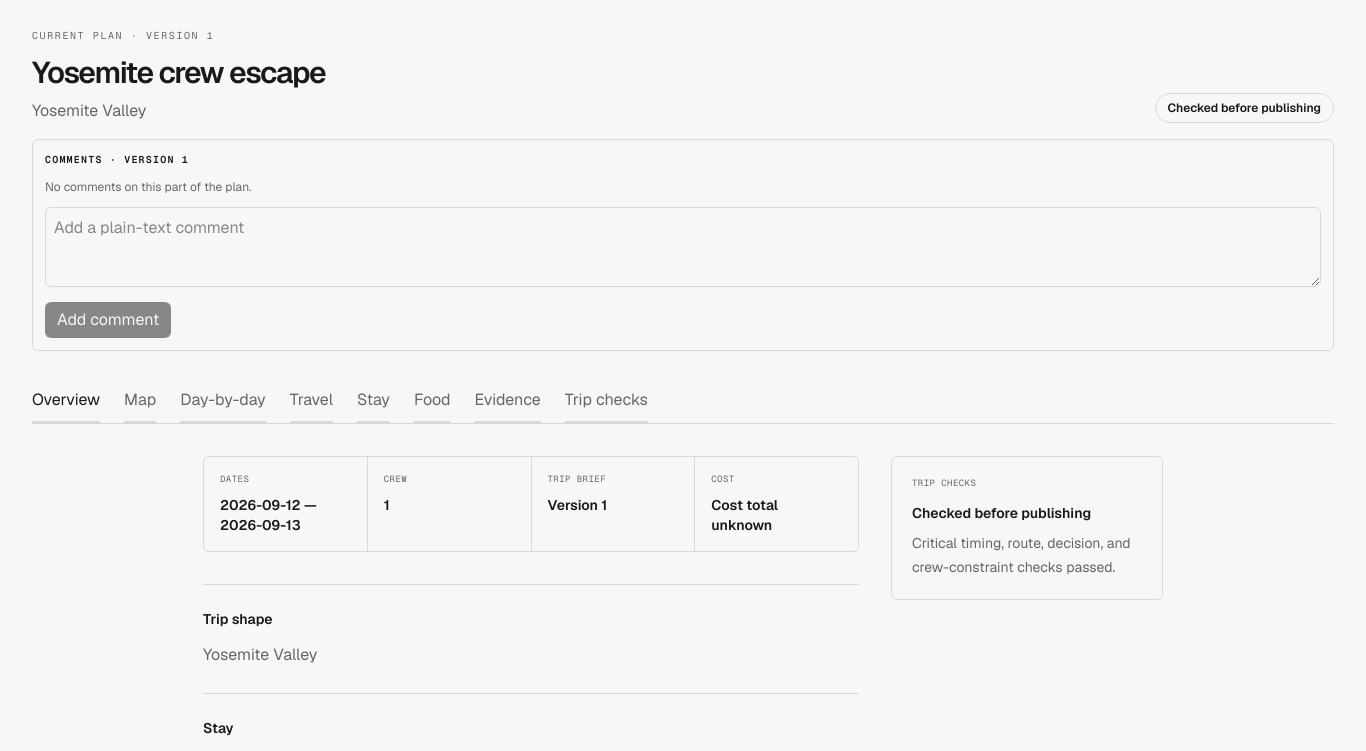
Test case: ItineraryExperience › places exact-version comments beside their itinerary item
The image size is (1366, 751).
Click the tab "Day-by-day". click: [223, 401]
box: 180,379 -> 266,423
(page scrolled)
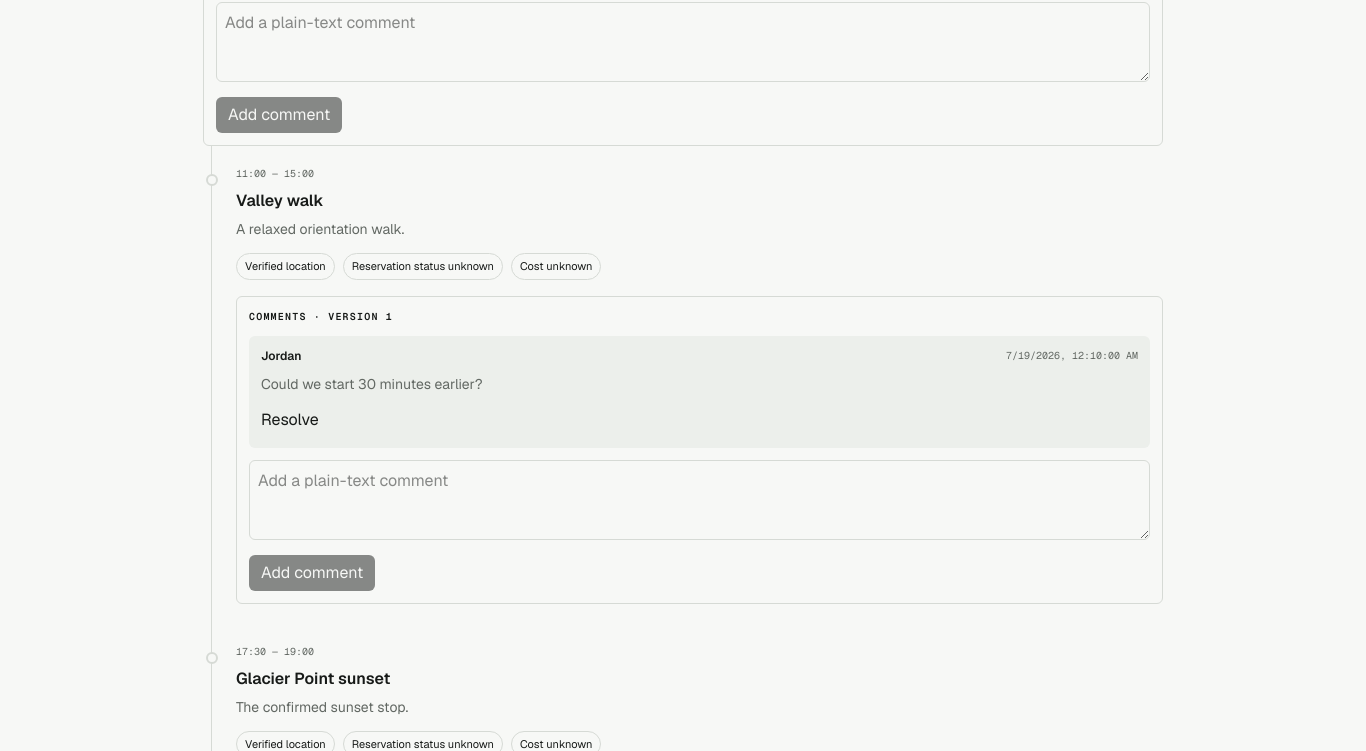
Expected: the list item "Valley walk" shows "Could we start 30 minutes earlier?", 261,374 -> 483,392
